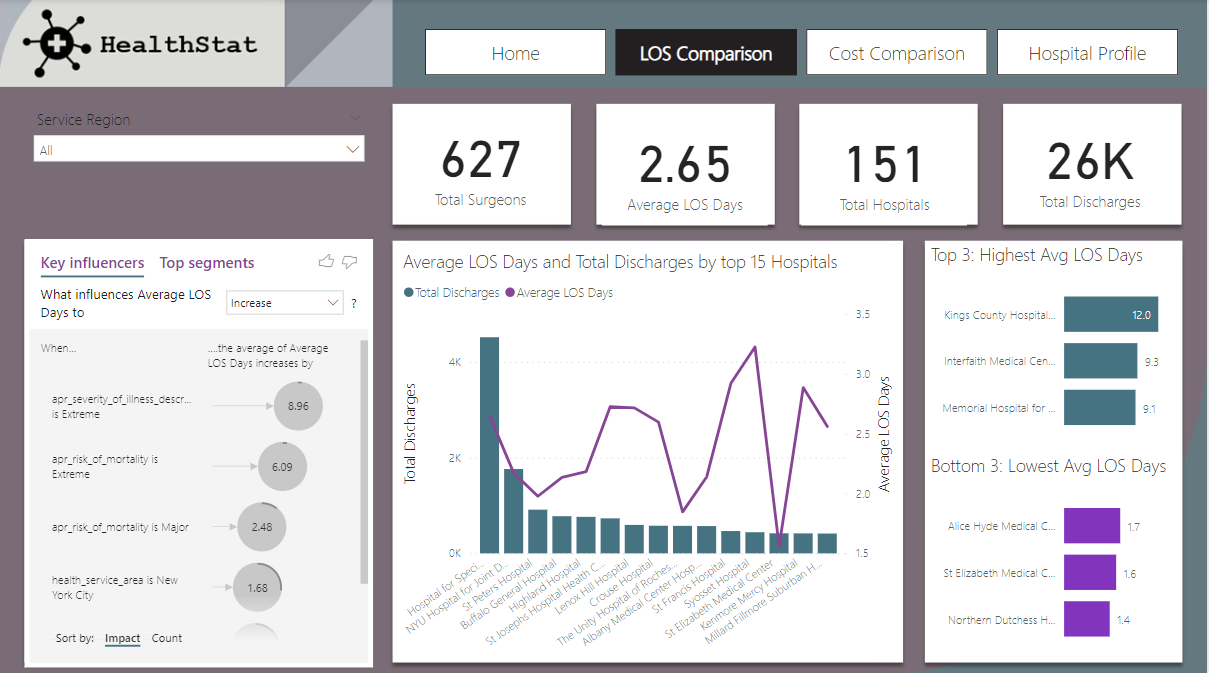

This screenshot's page, from the dashboard's own definition file:
{"tool":"powerbi","page":{"name":"LOS Comparison","canvas":[1280,720],"ordinal":1},"visuals":[{"type":"card","fields":{"Values":["_Measures.Total Surgeons"]},"box":[422.6,111.1,174.3,123.5],"z":0},{"type":"lineStackedColumnComboChart","title":"Average LOS Days and Total Discharges by top 15 Hospitals","fields":{"Y":["_Measures.Total Discharges"],"Category":["hospital_discharges.facility_name"],"Y2":["_Measures.Average LOS Days"]},"box":[422.6,264.8,532.4,433.6],"z":1000},{"type":"slicer","fields":{"Values":["hospital_discharges.health_service_area"]},"box":[27.4,111,370,130.4],"z":2000},{"type":"keyDriversVisual","fields":{"ExplainBy":["hospital_discharges.apr_risk_of_mortality","hospital_discharges.apr_severity_of_illness_description","hospital_discharges.ccs_diagnosis_description","hospital_discharges.patient_disposition","hospital_discharges.gender","hospital_discharges.Age Bins","surgical_program_size_summary.Surgical Program Size","hospital_discharges.health_service_area"],"Target":["_Measures.Average LOS Days"]},"box":[27.4,253.9,369.1,454.2],"z":3000},{"type":"clusteredBarChart","title":"Top 3: Highest Avg LOS Days","fields":{"Category":["hospital_discharges.facility_name"],"Y":["_Measures.Average LOS Days"]},"box":[982.7,257,270.1,220.5],"z":4000},{"type":"clusteredBarChart","title":"Bottom 3: Lowest Avg LOS Days","fields":{"Category":["hospital_discharges.facility_name"],"Y":["_Measures.Average LOS Days"]},"box":[982.7,481.9,270.1,220.5],"z":5000},{"type":"card","fields":{"Values":["_Measures.Average LOS Days"]},"box":[639.6,115.4,175.2,124.1],"z":6000},{"type":"card","fields":{"Values":["_Measures.Total Hospitals"]},"box":[849.8,115.4,175.2,124.1],"z":7000},{"type":"card","fields":{"Values":["_Measures.Total Discharges"]},"box":[1067.4,112.4,175.2,124.1],"z":8000},{"type":"pageNavigator","box":[452.1,31.4,800,49.9],"z":9000}]}

Visuals, with their boxes in screenshot pixels (x1, y1, x2, y2), scaled from the page's 1280x720 canvas onto the 1209x673 screenshot:
card - _Measures.Total Surgeons: Rect(399, 104, 564, 219)
"Average LOS Days and Total Discharges by top 15 Hospitals" lineStackedColumnComboChart: Rect(399, 248, 902, 653)
slicer - hospital_discharges.health_service_area: Rect(26, 104, 375, 226)
keyDriversVisual - hospital_discharges.apr_risk_of_mortality x hospital_discharges.apr_severity_of_illness_description: Rect(26, 237, 375, 662)
"Top 3: Highest Avg LOS Days" clusteredBarChart: Rect(928, 240, 1183, 446)
"Bottom 3: Lowest Avg LOS Days" clusteredBarChart: Rect(928, 450, 1183, 657)
card - _Measures.Average LOS Days: Rect(604, 108, 770, 224)
card - _Measures.Total Hospitals: Rect(803, 108, 968, 224)
card - _Measures.Total Discharges: Rect(1008, 105, 1174, 221)
pageNavigator: Rect(427, 29, 1183, 76)
